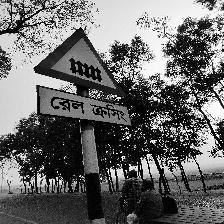Rail-crossing: (33, 28, 132, 128)
